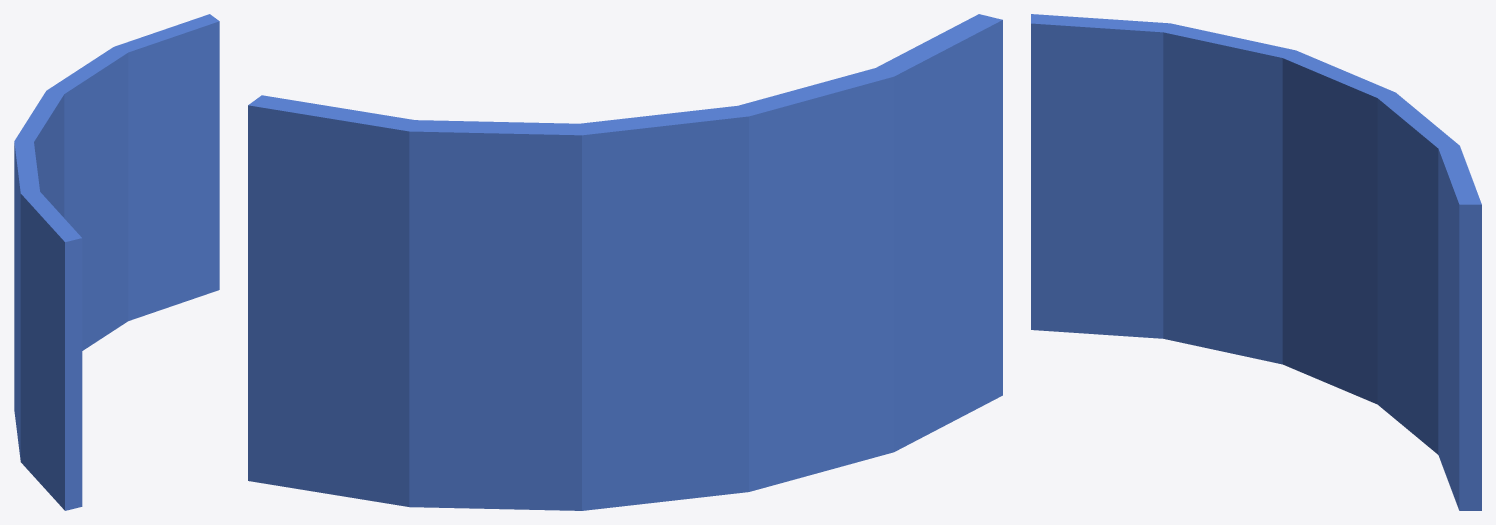
The model's file is WallBand_Corner_Round_Outer_Collision.fbx.
3 renders of one model, left to right at view 1: azimuth 30°, elevation 25°; view 2: azimuth 150°, elevation 25°; view 3: azimuth 270°, elevation 25°, orthographic. The views are drawn at different scales.
Parts seen in each view (by area): view 1: WallBand_Corner_Round_Outer_Collision; view 2: WallBand_Corner_Round_Outer_Collision; view 3: WallBand_Corner_Round_Outer_Collision.
Boxes of the visible parts, bbox=[...] form: WallBand_Corner_Round_Outer_Collision: bbox=[14, 14, 219, 510]; WallBand_Corner_Round_Outer_Collision: bbox=[248, 14, 1002, 510]; WallBand_Corner_Round_Outer_Collision: bbox=[1031, 14, 1481, 510].
Bounding box in the file's own units: 400 × 300 × 400.
